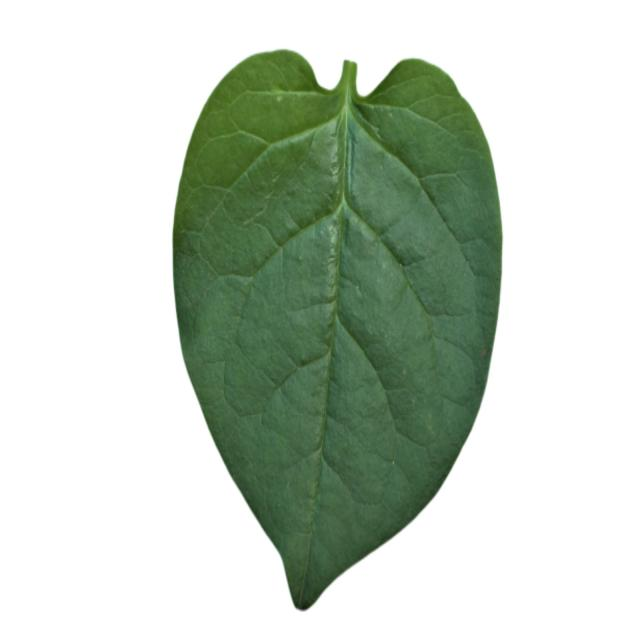Medicinal-Basale: (170, 47, 503, 607)
